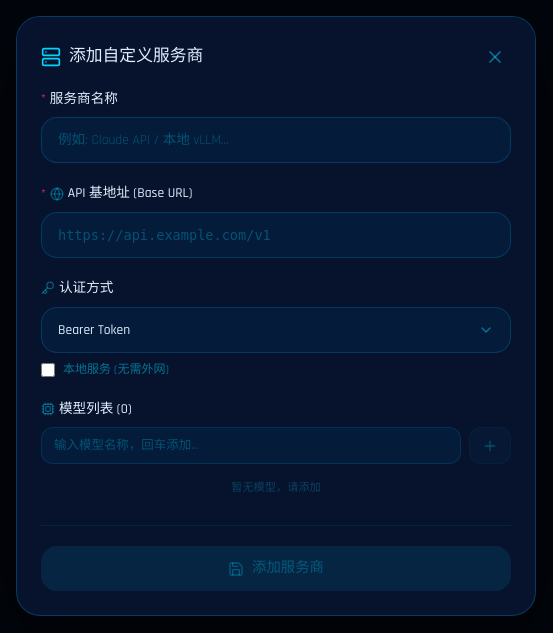
Test case: ProviderEditorModal › 表单字段 › renders auth type dropdown with 3 options: bearer, api-key, none
The image size is (553, 633).
// Open the auth dropdown
Click the button "Bearer Token": (94, 330) left=41, top=306, right=511, bottom=353
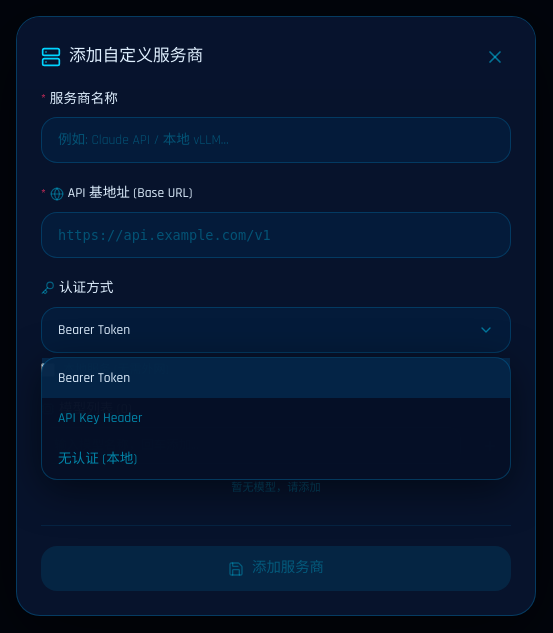
Result: the button "API Key Header" is shown at left=42, top=398, right=510, bottom=439
Result: the button "无认证 (本地)" is shown at left=42, top=439, right=510, bottom=479
